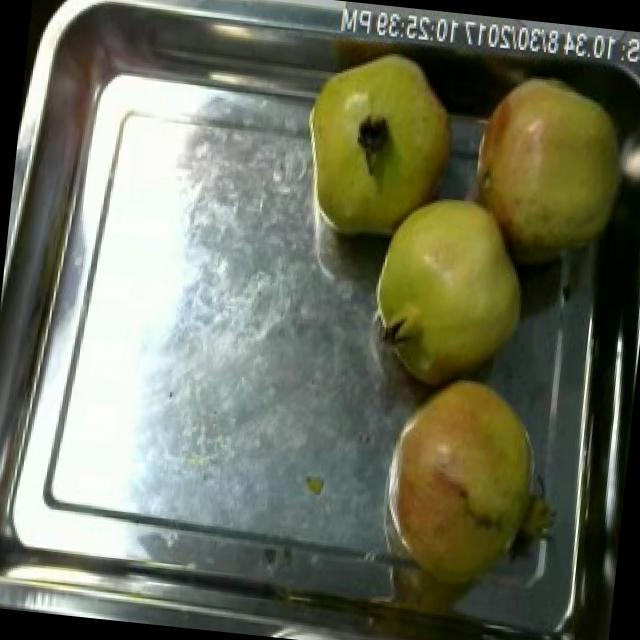fruit: (369, 352, 556, 602), (358, 169, 546, 401), (448, 59, 640, 282), (289, 39, 472, 250)
